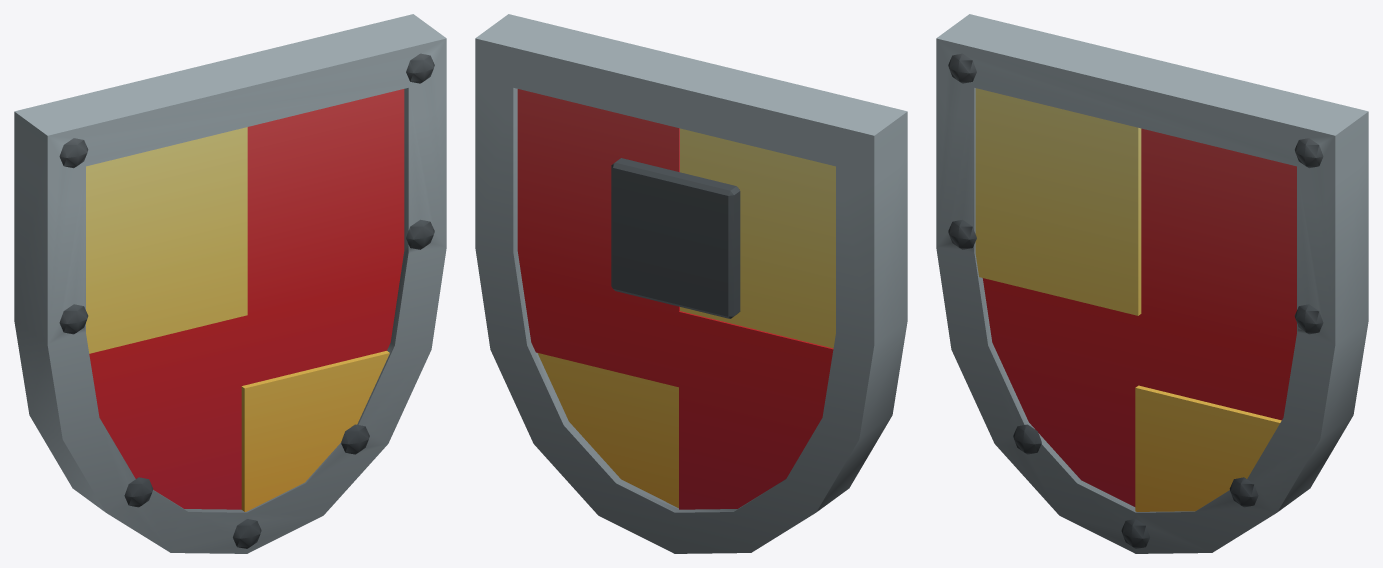
The model's file is shield_quartered.glb.
3 views of the same model, side by side, from view 1: azimuth 30°, elevation 25°; view 2: azimuth 150°, elevation 25°; view 3: azimuth 330°, elevation 25° (orthographic).
Parts seen in each view (by area): view 1: shield_quartered; view 2: shield_quartered; view 3: shield_quartered.
Part boxes in pixels (left/top/right/bottom): shield_quartered: left=14, top=14, right=446, bottom=553; shield_quartered: left=475, top=14, right=907, bottom=553; shield_quartered: left=936, top=14, right=1368, bottom=553.
Size of the model in its own units: 1.11 by 1.24 by 0.202.
Materials: 1 (1 with a texture image).
